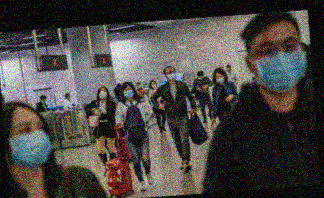with_mask: (253, 36, 308, 93), (8, 118, 50, 169), (123, 86, 134, 100), (165, 69, 176, 81), (215, 74, 225, 84), (98, 88, 107, 99), (150, 82, 157, 89), (40, 97, 46, 104), (197, 75, 204, 80), (67, 93, 71, 101), (136, 83, 141, 89)
without_mask: (225, 66, 231, 73)
